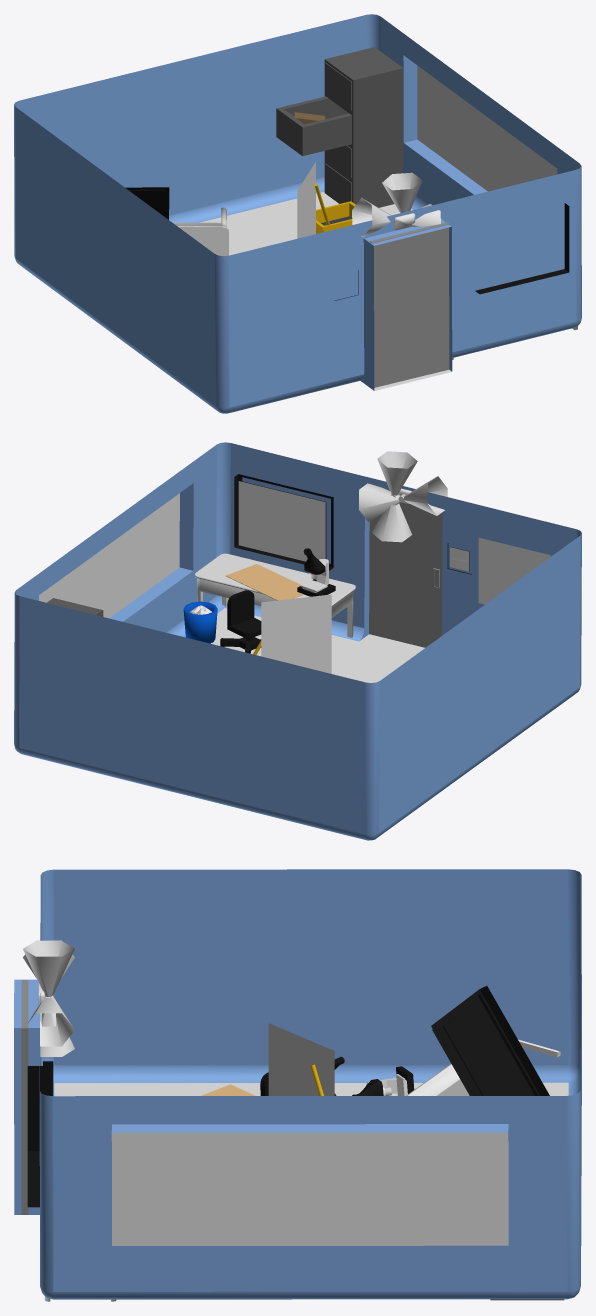
3 views of the same model, one above another, from view 1: azimuth 30°, elevation 25°; view 2: azimuth 150°, elevation 25°; view 3: azimuth 270°, elevation 25° (orthographic). The views are drawn at different scales.
Parts seen in each view (by area): view 1: Room, Cube.008, Cube.005, Table.002, janitor512x256, Cylinder.002, Cube.009, TV, Cylinder.001, TV_Off; view 2: Room, Cube.005, TV, janitor512x256, Table.001, Plane, Cube.002, Matt.001, TrashCan, Cylinder.002, Cube, Cylinder.004 (+2 smaller); view 3: Room, TV_Off, janitor512x256, TV, Cylinder.002, Cube.005, Table.002, Cylinder.003, Cube.006, Cylinder.004.
Part boxes in pixels (<box>): Room: <box>14,14,581,413</box>; Cube.008: <box>276,47,403,207</box>; Cube.005: <box>369,222,449,387</box>; Table.002: <box>173,207,228,256</box>; janitor512x256: <box>297,162,315,238</box>; Cylinder.002: <box>382,172,422,213</box>; Cube.009: <box>314,183,355,233</box>; TV: <box>475,203,569,294</box>; Cylinder.001: <box>352,197,390,237</box>; TV_Off: <box>125,187,169,219</box>; Room: <box>14,442,581,840</box>; Cube.005: <box>369,502,442,647</box>; TV: <box>234,474,333,570</box>; janitor512x256: <box>261,594,331,673</box>; Table.001: <box>195,553,355,637</box>; Plane: <box>478,537,550,604</box>; Cube.002: <box>220,590,261,653</box>; Matt.001: <box>225,564,303,600</box>; TrashCan: <box>183,601,217,643</box>; Cylinder.002: <box>377,451,417,495</box>; Cube: <box>297,548,335,596</box>; Cylinder.004: <box>372,503,412,542</box>; Room: <box>14,869,581,1299</box>; TV_Off: <box>431,986,549,1095</box>; janitor512x256: <box>268,1023,334,1095</box>; TV: <box>27,1061,53,1207</box>; Cylinder.002: <box>23,941,74,997</box>; Cube.005: <box>21,979,28,1214</box>; Table.002: <box>406,1039,560,1095</box>; Cylinder.003: <box>28,996,74,1046</box>; Cube.006: <box>352,1066,414,1095</box>; Cylinder.004: <box>40,1013,74,1056</box>.
Size of the model in its own units: 846 by 428 by 854.
